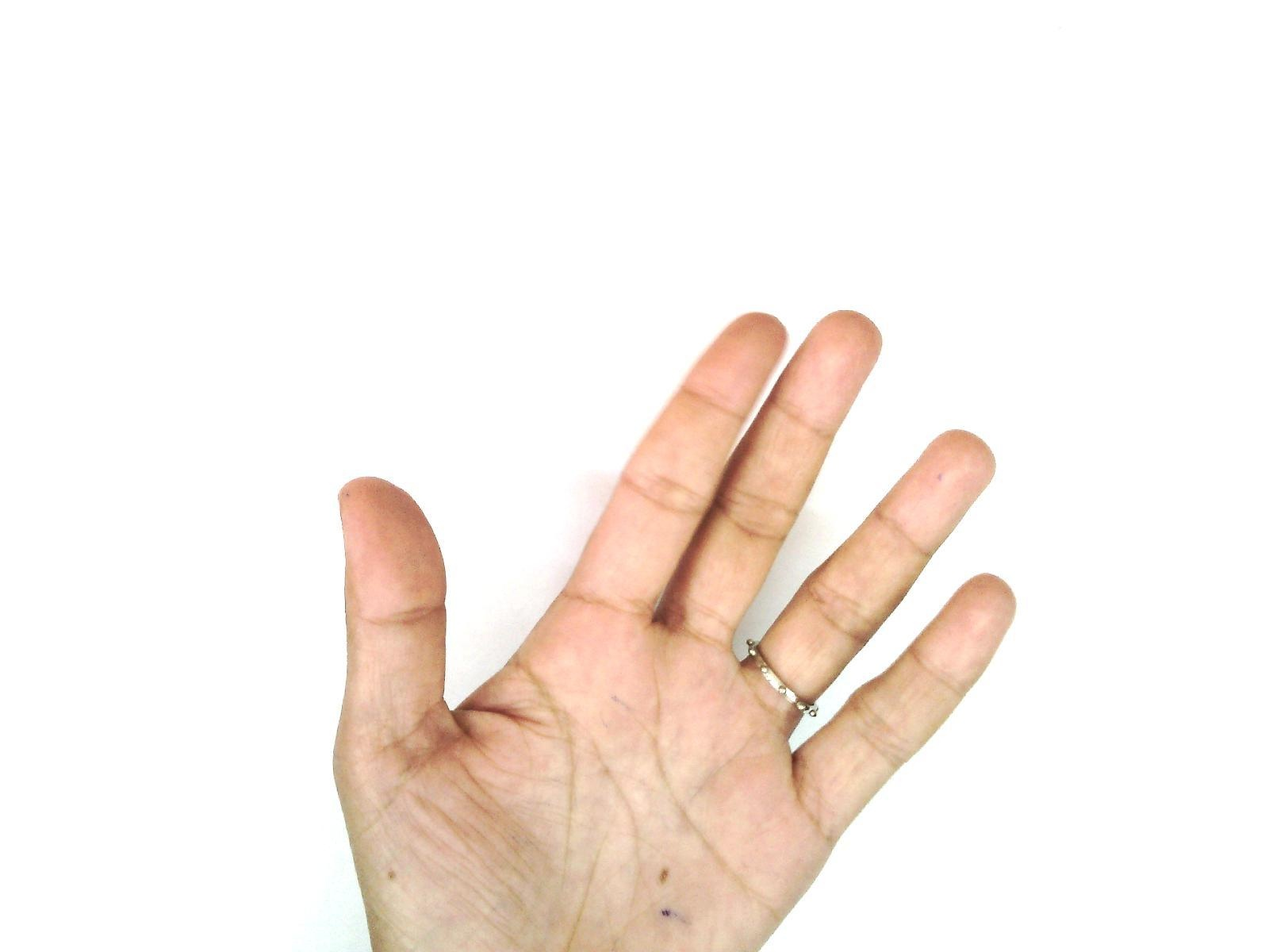open_palm: (330, 307, 1019, 951)
